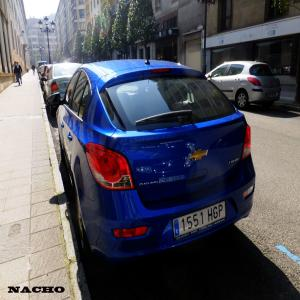Vehicle-registration-plate: (170, 204, 227, 246)
